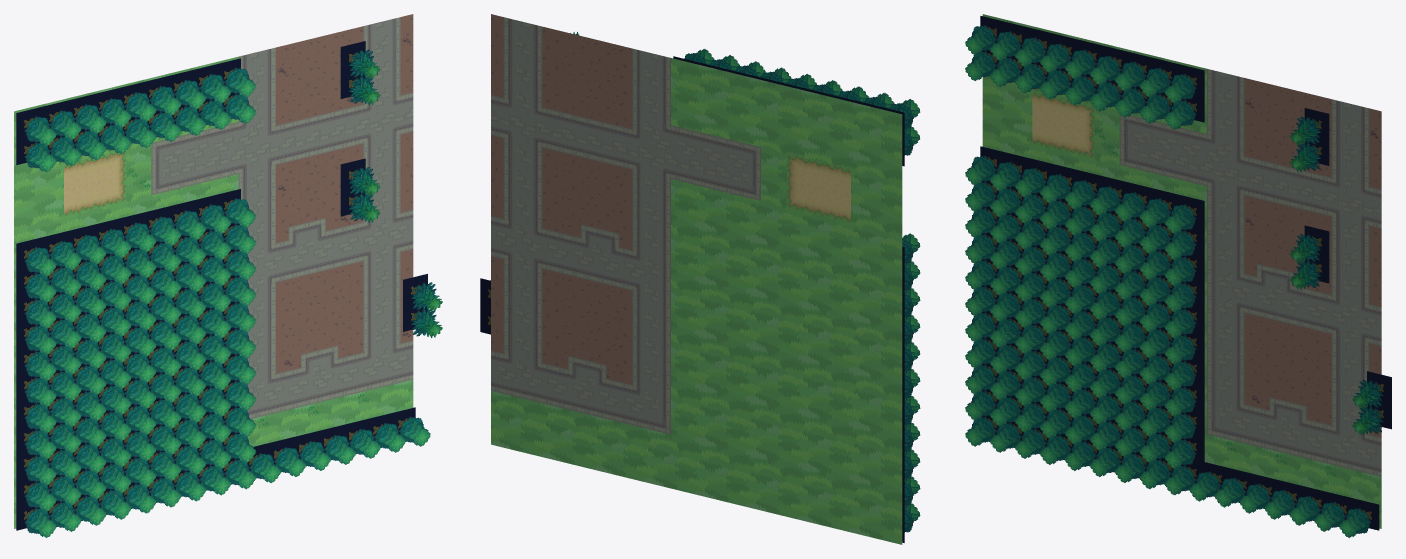
The model's file is HGRT-OW-v1_11_05.obj.
3 views of the same model, side by side, from view 1: azimuth 30°, elevation 25°; view 2: azimuth 150°, elevation 25°; view 3: azimuth 330°, elevation 25° (orthographic). The views are drawn at different scales.
Parts seen in each view (by area): view 1: map; view 2: map; view 3: map.
Boxes of the visible parts, box(x1,y1,x2,y2) form: map: box(14, 14, 442, 537); map: box(480, 14, 920, 544); map: box(965, 14, 1391, 537).
Bounding box in the file's own units: 33 × 32 × 3.63.
15 materials, 15 textured.
